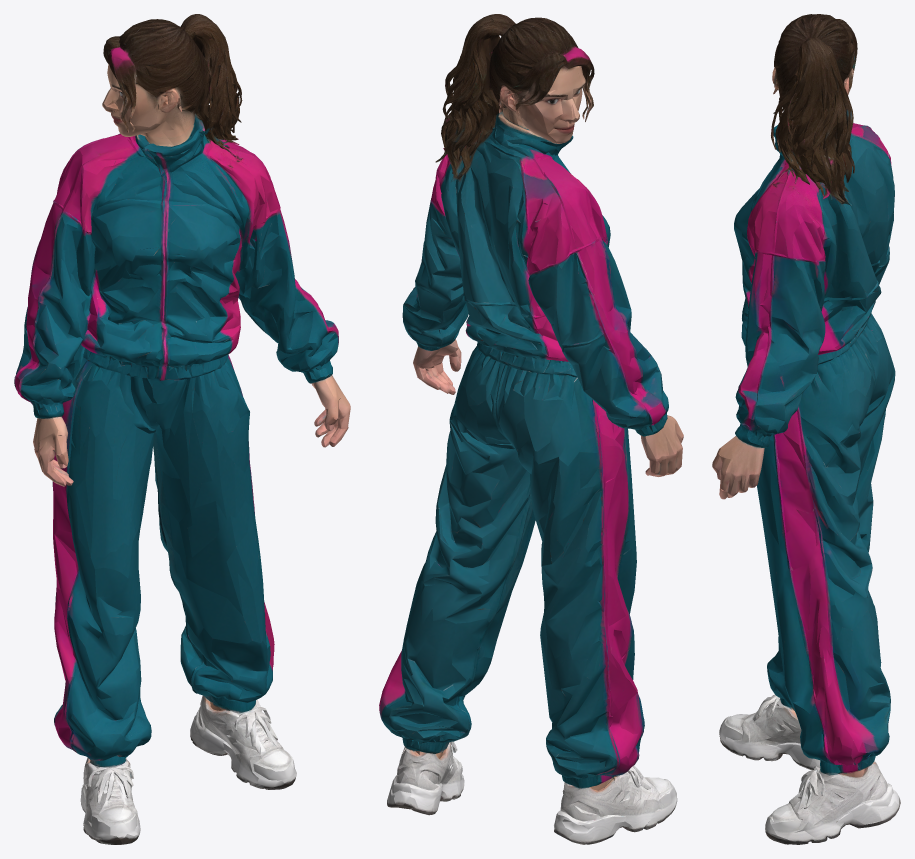
File: emma-3d.glb
3 views of the same model, side by side, from view 1: azimuth 30°, elevation 25°; view 2: azimuth 150°, elevation 25°; view 3: azimuth 270°, elevation 25° (orthographic). The views are drawn at different scales.
Parts seen in each view (by area): view 1: HERO_emma; view 2: HERO_emma; view 3: HERO_emma.
Boxes of the visible parts, box(x1,y1,x2,y2) form: HERO_emma: box(14, 14, 350, 844); HERO_emma: box(379, 14, 683, 844); HERO_emma: box(712, 14, 900, 844).
Size of the model in its own units: 0.7255 by 1.9 by 0.4227.
1 material, 1 textured.
